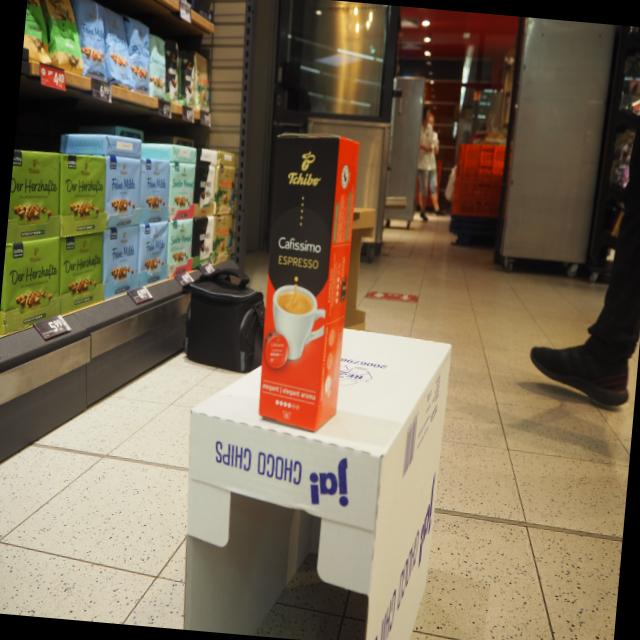Simo Es Elegant: (254, 130, 364, 438)
